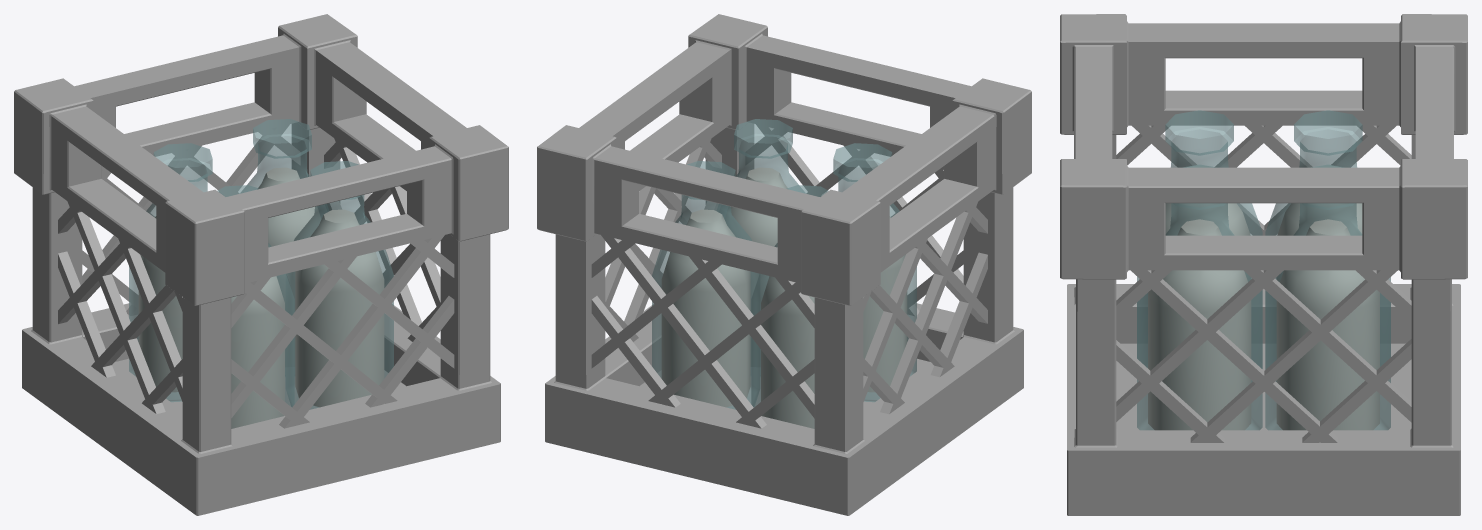
The model's file is SM_MilkCrate.fbx.
The picture shows the model from 3 angles, left to right: view 1: azimuth 30°, elevation 25°; view 2: azimuth 150°, elevation 25°; view 3: azimuth 270°, elevation 25°; orthographic projection. The views are drawn at different scales.
Parts seen in each view (by area): view 1: milkcrate, SM_MilkBottle (×4), SM_Milk (×4), grate3, grate, grate2, grate1; view 2: milkcrate, SM_MilkBottle (×4), SM_Milk (×4), grate2, grate, grate3, grate1; view 3: milkcrate, SM_MilkBottle (×4), SM_Milk (×4), grate1, grate.
Part boxes in pixels (x1,y1,x2,y2): milkcrate: (14, 14, 508, 515); SM_MilkBottle (×4): (129, 119, 393, 428); SM_Milk (×4): (138, 167, 384, 428); grate3: (231, 235, 454, 428); grate: (58, 201, 182, 414); grate2: (82, 124, 300, 315); grate1: (324, 138, 440, 347); milkcrate: (537, 14, 1031, 515); SM_MilkBottle (×4): (652, 119, 916, 428); SM_Milk (×4): (661, 167, 907, 428); grate2: (591, 235, 814, 428); grate: (863, 201, 987, 414); grate3: (745, 124, 963, 315); grate1: (605, 138, 721, 348); milkcrate: (1060, 14, 1467, 515); SM_MilkBottle (×4): (1137, 110, 1390, 430); SM_Milk (×4): (1148, 165, 1379, 430); grate1: (1116, 270, 1411, 442); grate: (1116, 125, 1411, 235).
Bounding box in the file's own units: 79.5 × 71.42 × 79.3.
